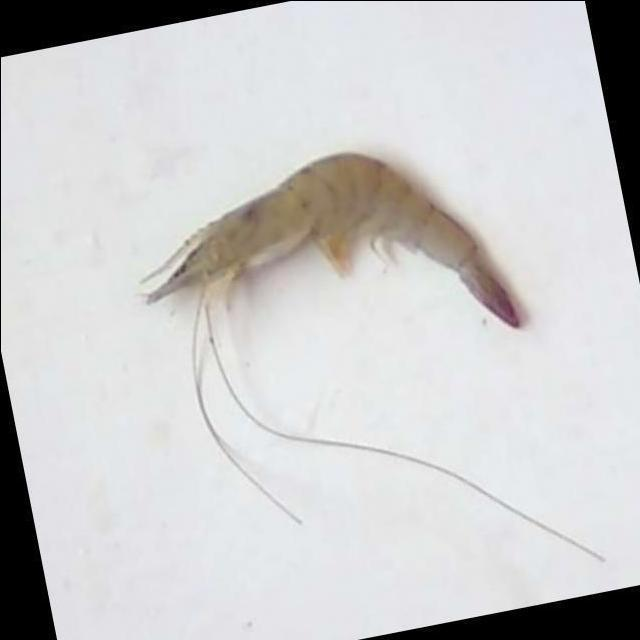shrimp: (141, 152, 520, 327)
